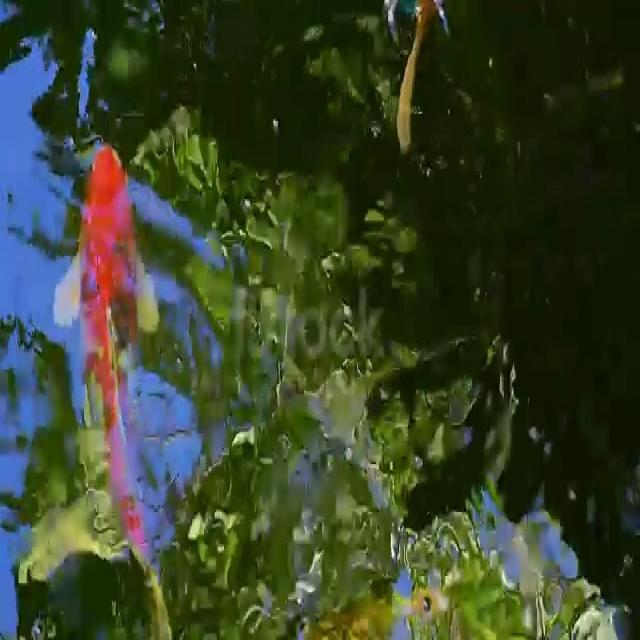fish: (43, 129, 174, 576)
